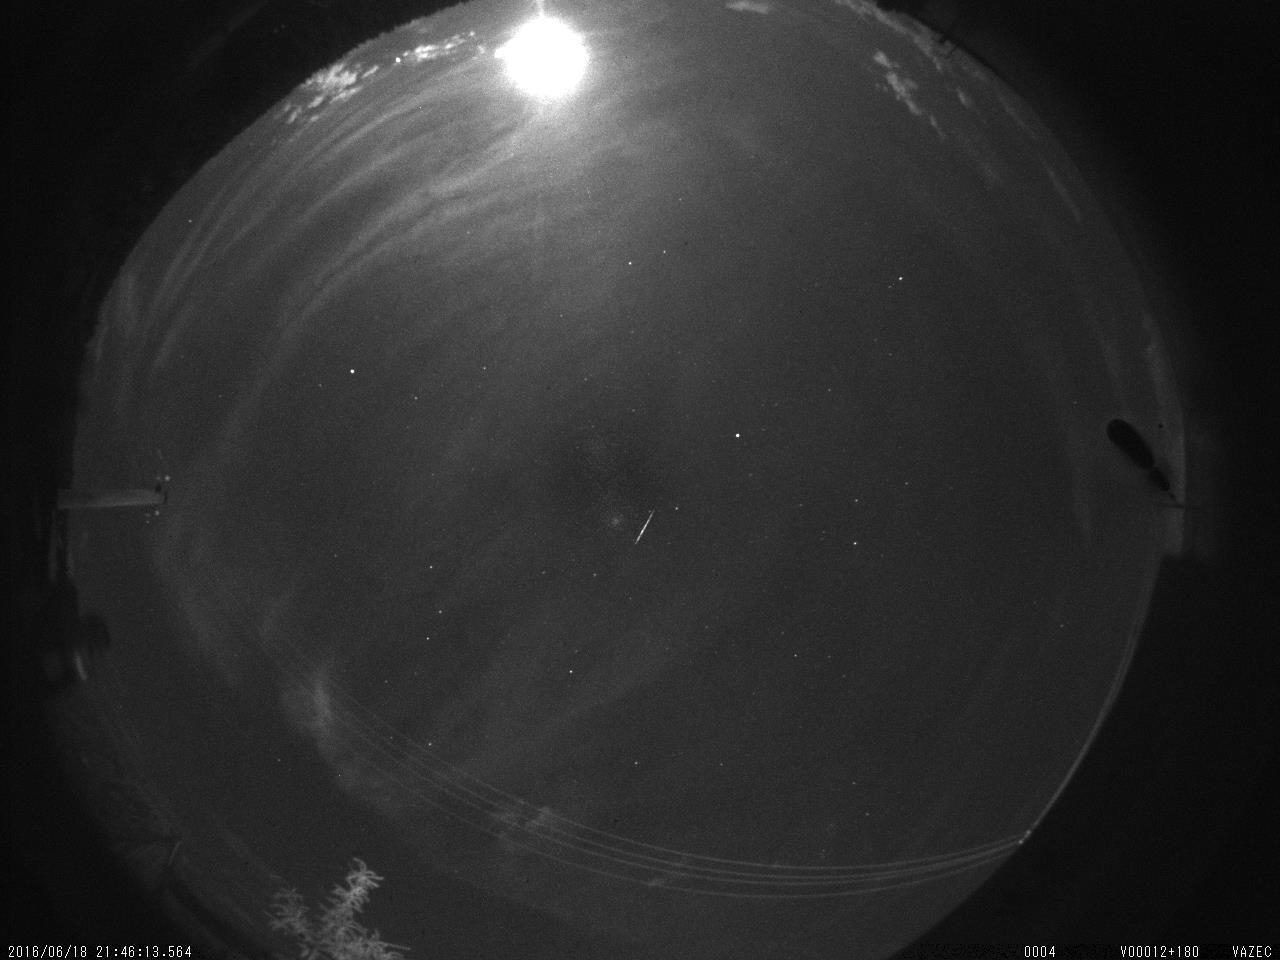Meteor: (634, 502, 660, 550)
